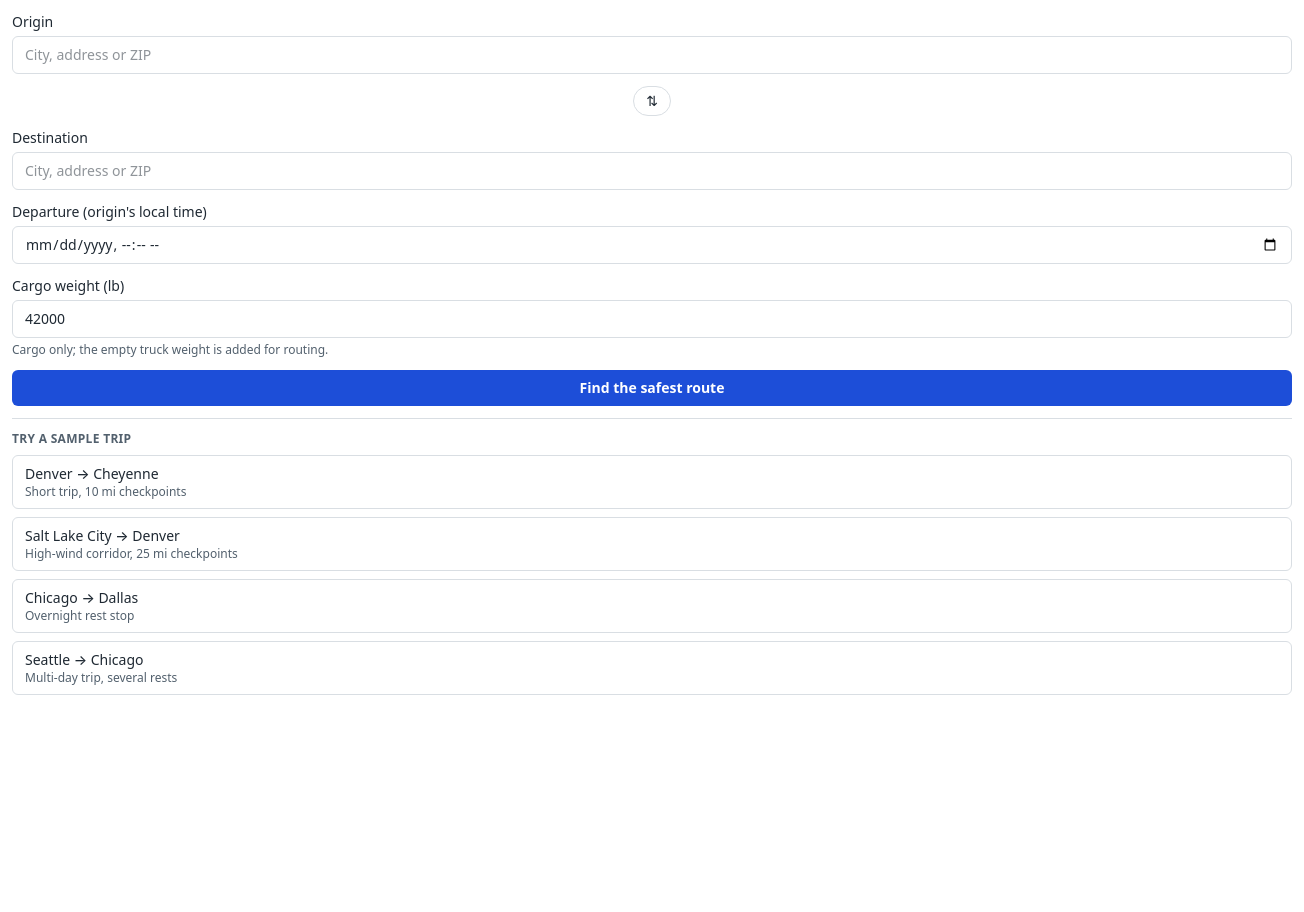
Test: submitting › explains what is missing and does not search
Click the button "Find the safest route" at (652, 388), box [12,370,1292,406]
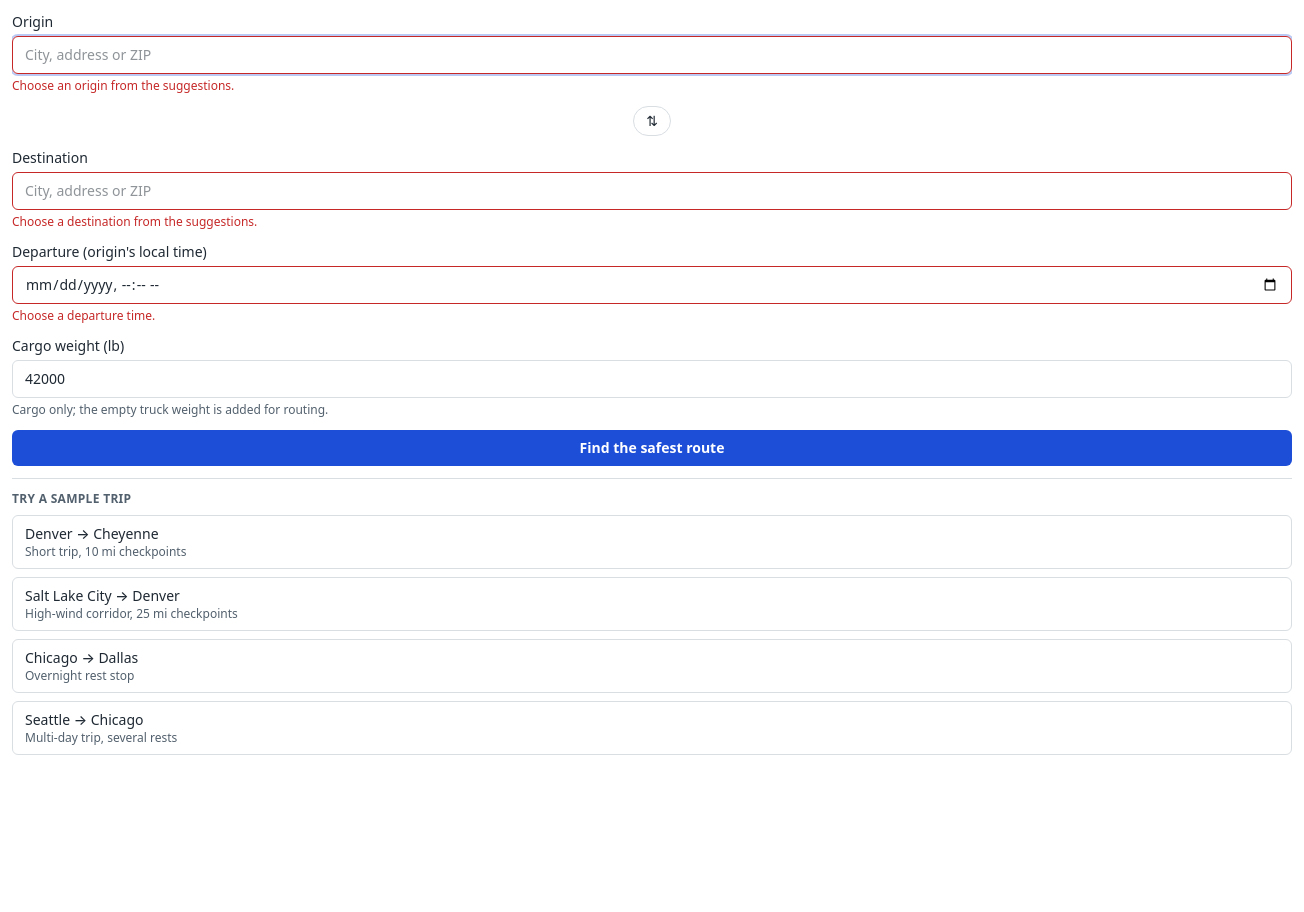
Result: the message "Choose an origin from the suggestions." is shown at [12,77,234,94]
Result: the message "Choose a destination from the suggestions." is shown at [12,213,257,230]
